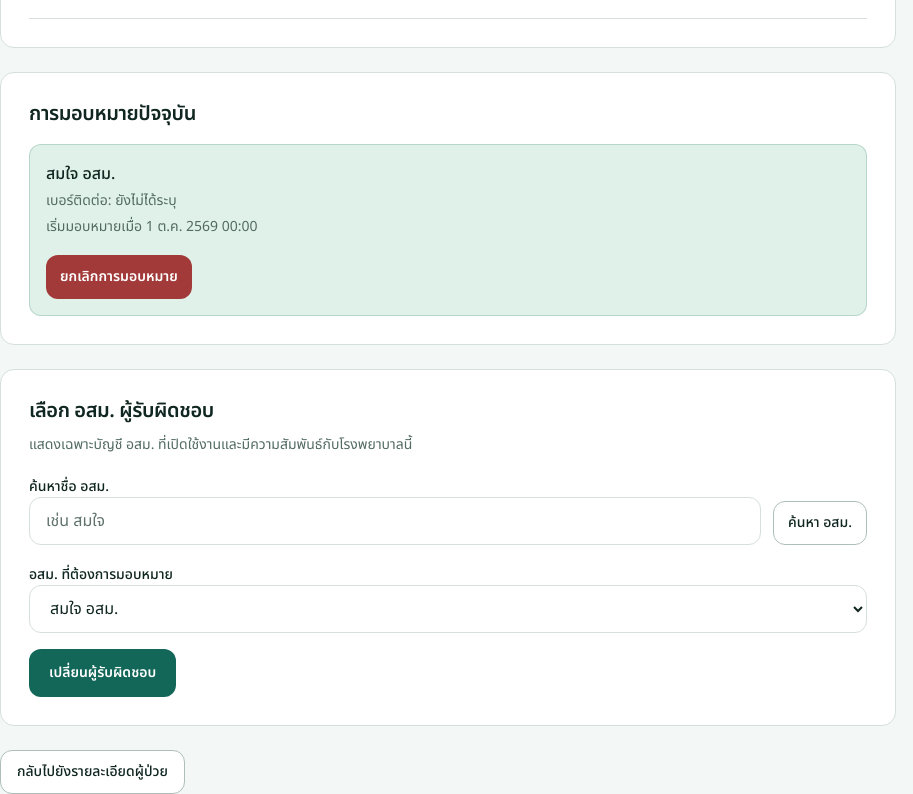
Test: single OSM assignment feedback › gives no Toast for a NOOP and keeps the inline explanation
(page scrolled)
Select "สมใจ อสม." in the dropdown labelled "อสม. ที่ต้องการมอบหมาย" at (448, 610), box [29,586,867,634]
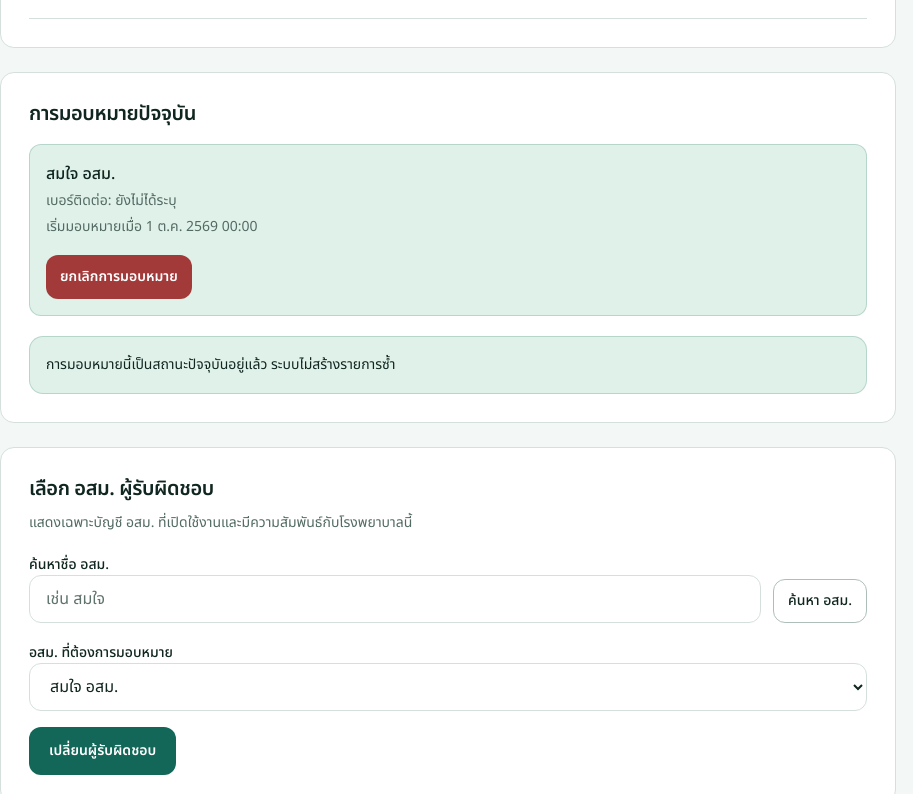
Expected: the text "เป็นสถานะปัจจุบันอยู่แล้ว" is shown, [46,354,396,376]
